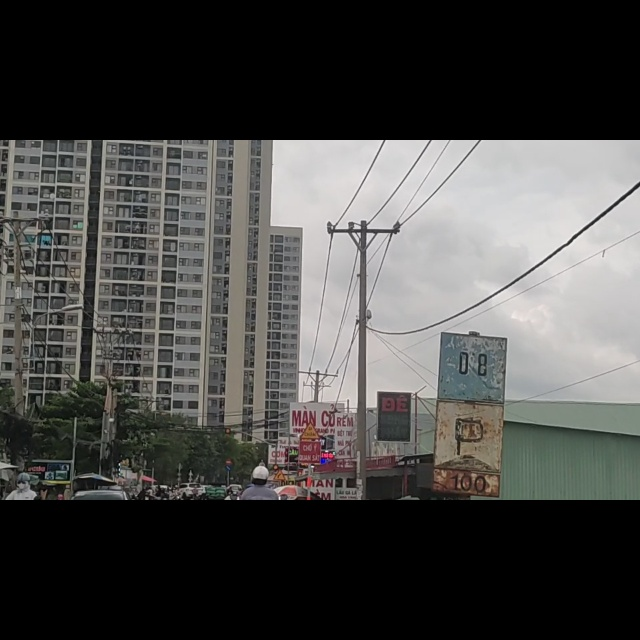bien_nguy_hiem: (301, 500, 321, 533)
